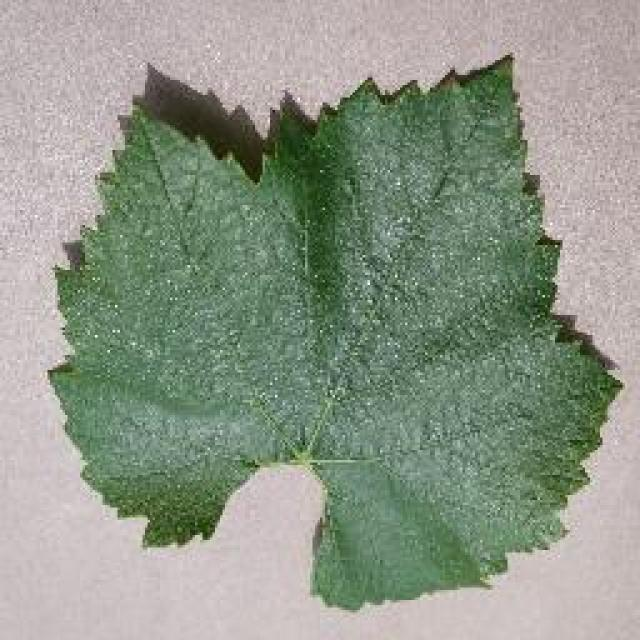Healthy: (25, 44, 626, 626)
